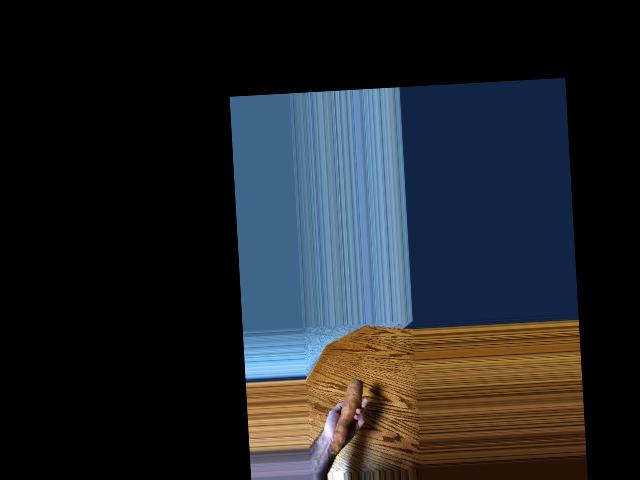sweet_potato: (325, 381, 361, 455)
